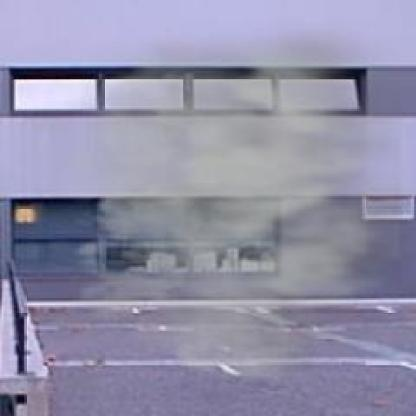Smoke: (32, 20, 401, 377)
